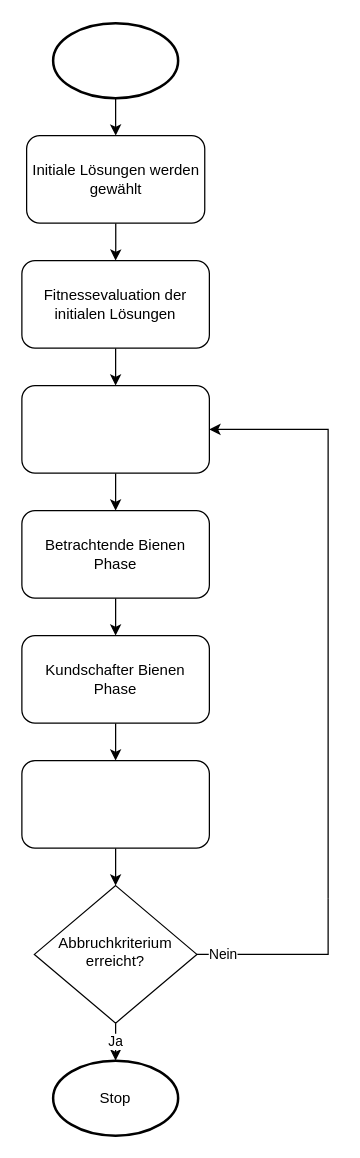
Some shapes in this 360 by 1158 pixel diagram are drawn without their labels. The centre of each missing label's shape, as x and y in pixels:
"Beschäftigte Bienen Phase" goes at [115,428].
"Evaluierung der gefundenen Lösungen, Verbesserungen speichern" goes at [115,803].
"Start" goes at [115,60].
